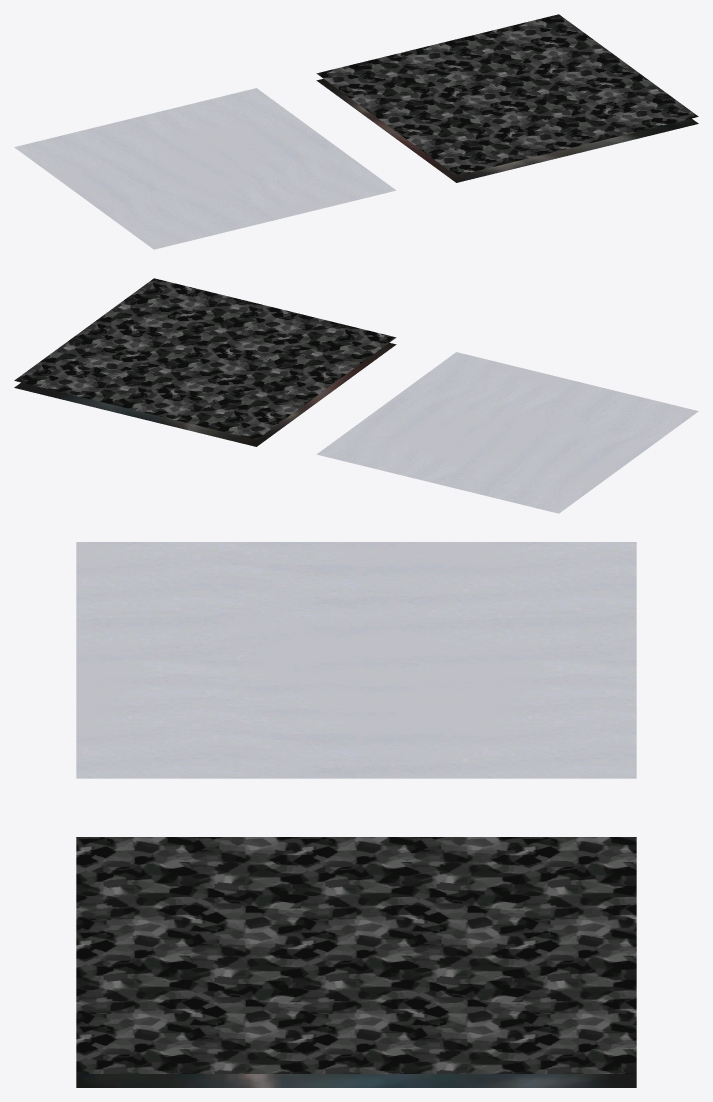
The model's file is NeigeTest.fbx.
3 views of the same model, one above another, from view 1: azimuth 30°, elevation 25°; view 2: azimuth 150°, elevation 25°; view 3: azimuth 270°, elevation 25° (orthographic). The views are drawn at different scales.
Parts seen in each view (by area): view 1: Plane.001, Plane, Plane.003; view 2: Plane.001, Plane, Plane.003; view 3: Plane.001, Plane, Plane.003.
Part boxes in pixels (left/top/right/bottom): Plane.001: left=14, top=88, right=396, bottom=249; Plane: left=316, top=14, right=698, bottom=175; Plane.003: left=316, top=79, right=698, bottom=182; Plane.001: left=316, top=352, right=698, bottom=513; Plane: left=14, top=278, right=396, bottom=439; Plane.003: left=14, top=343, right=396, bottom=446; Plane.001: left=76, top=542, right=636, bottom=778; Plane: left=76, top=837, right=636, bottom=1073; Plane.003: left=76, top=1074, right=636, bottom=1087.
Bounding box in the file's own units: 225293 × 2789 × 100293.
4 materials, 4 textured.
